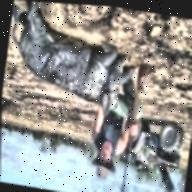boar: (2, 0, 142, 124)
